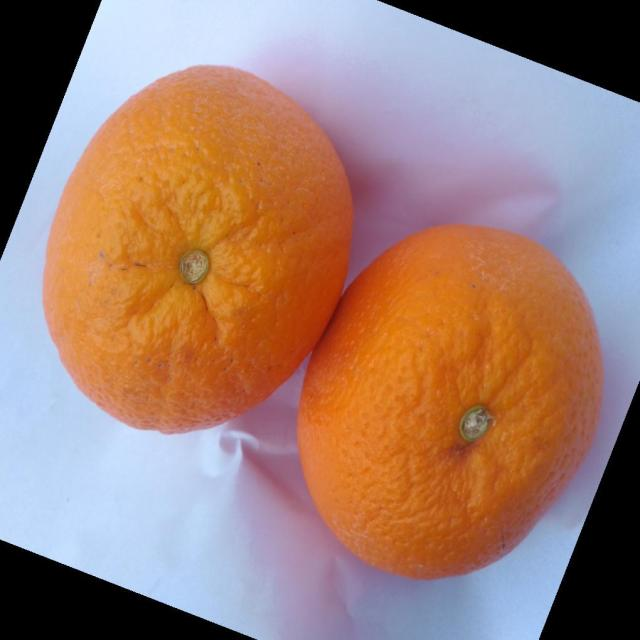fresh orange: (41, 62, 354, 435), (296, 222, 604, 580)
